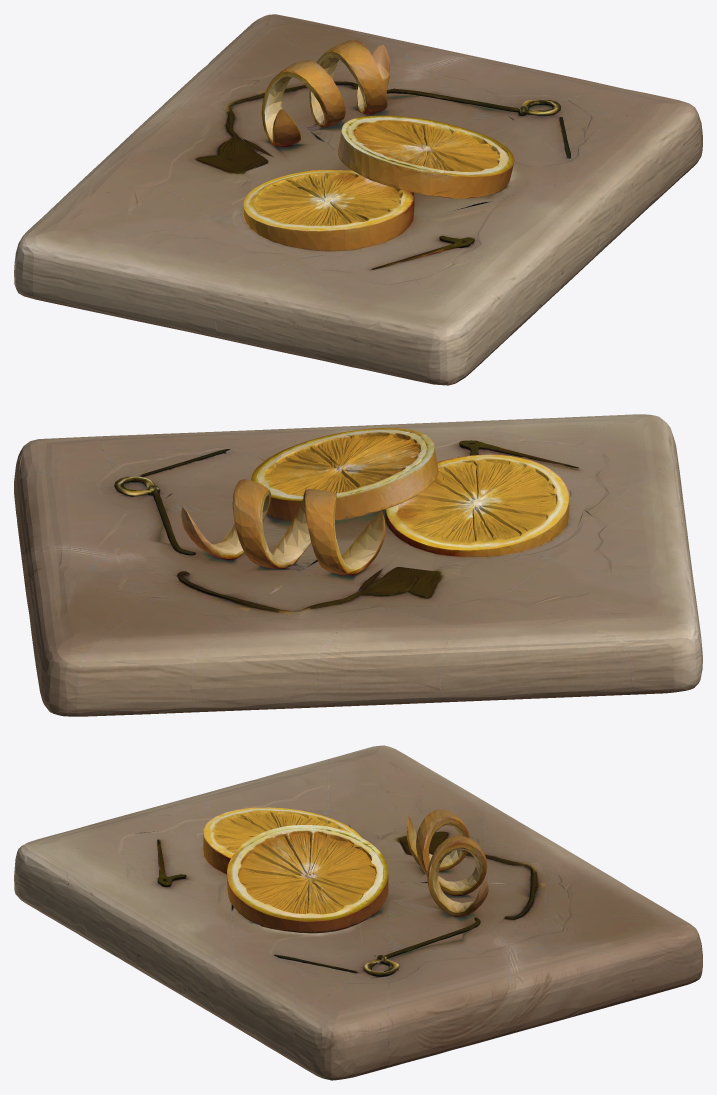
The model's file is bar-citrus-board.glb.
The picture shows the model from 3 angles, top to bottom: view 1: azimuth 30°, elevation 25°; view 2: azimuth 150°, elevation 25°; view 3: azimuth 270°, elevation 25°; orthographic projection. The views are drawn at different scales.
Visible parts, largest first — view 1: tmpqk5500ru.obj; view 2: tmpqk5500ru.obj; view 3: tmpqk5500ru.obj.
Boxes of the visible parts, x1,y1,x2,y2 form: tmpqk5500ru.obj: (14,14,702,385); tmpqk5500ru.obj: (14,414,702,716); tmpqk5500ru.obj: (14,745,702,1080).
Bounding box in the file's own units: 1.92 × 0.3746 × 1.9.
Materials: 1 (1 with a texture image).
